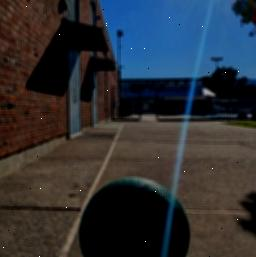algae: (80, 180, 189, 257)
